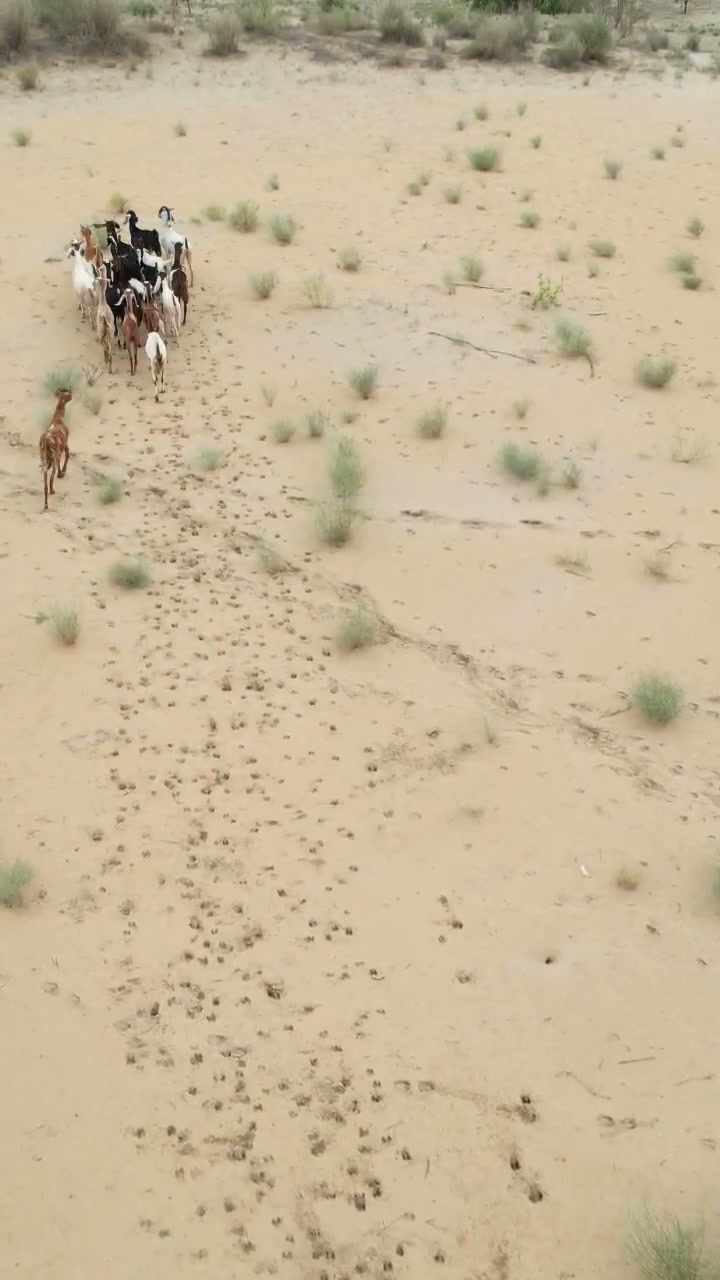animal_foot_print: (76, 407, 449, 1237)
